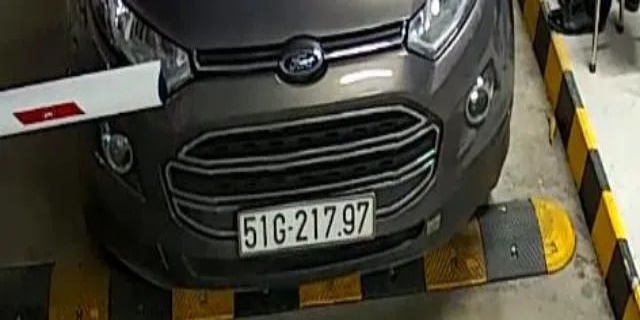bien_so: (238, 201, 374, 245)
